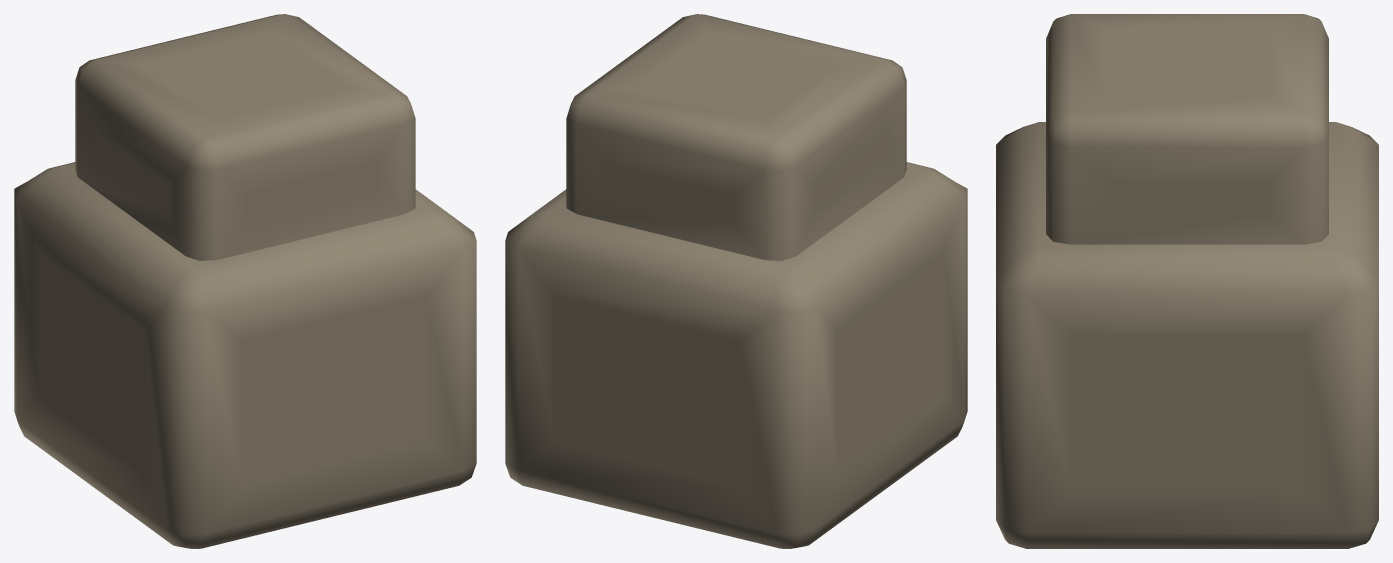
File: wall_post.glb
3 renders of one model, left to right at view 1: azimuth 30°, elevation 25°; view 2: azimuth 150°, elevation 25°; view 3: azimuth 270°, elevation 25°, orthographic. The views are drawn at different scales.
Visible parts, largest first — view 1: Post_Block; view 2: Post_Block; view 3: Post_Block.
Boxes of the visible parts, box(x1,y1,x2,y2) form: Post_Block: box(14, 14, 476, 548); Post_Block: box(505, 14, 967, 548); Post_Block: box(996, 14, 1378, 548).
Size of the model in its own units: 0.2 by 0.24 by 0.2.
